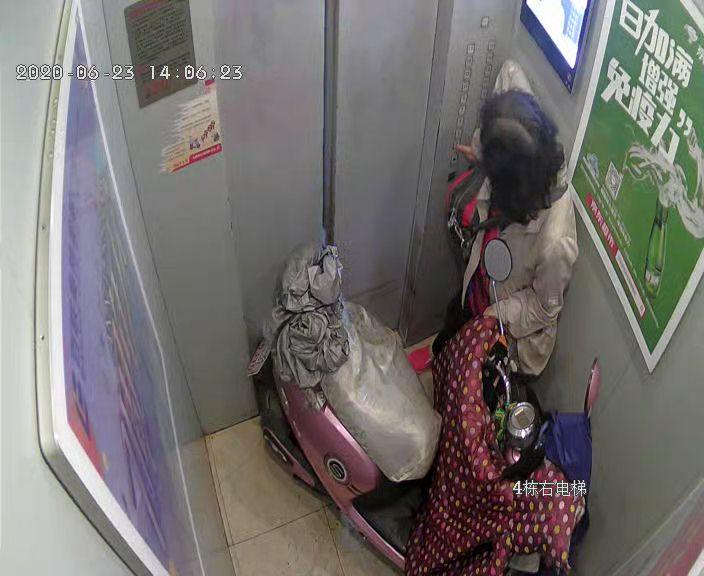Electric-bicycle: (266, 259, 596, 568)
